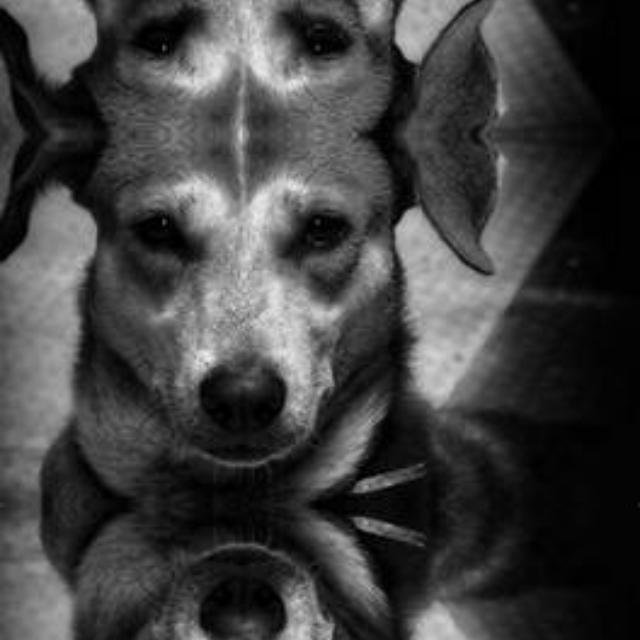dog: (38, 134, 508, 452), (38, 0, 508, 134), (38, 558, 508, 640)
